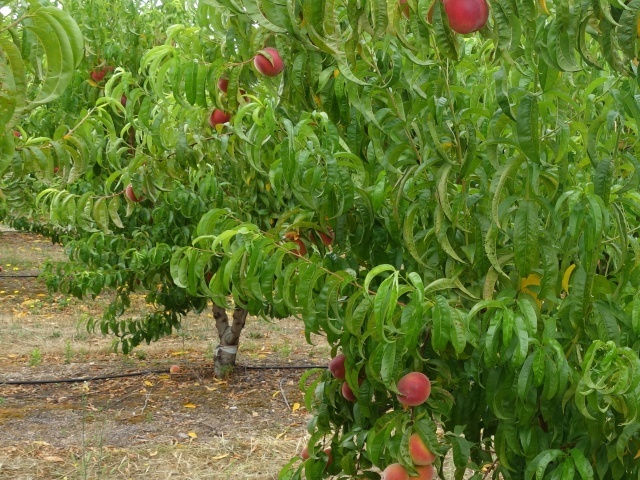peach: (439, 1, 492, 36), (393, 367, 433, 411), (402, 426, 441, 468), (251, 45, 284, 79), (280, 225, 310, 262), (378, 455, 416, 479), (404, 458, 446, 479), (337, 374, 367, 403), (205, 104, 234, 132), (307, 222, 335, 250), (326, 349, 352, 379), (123, 175, 149, 203), (214, 69, 233, 95)
